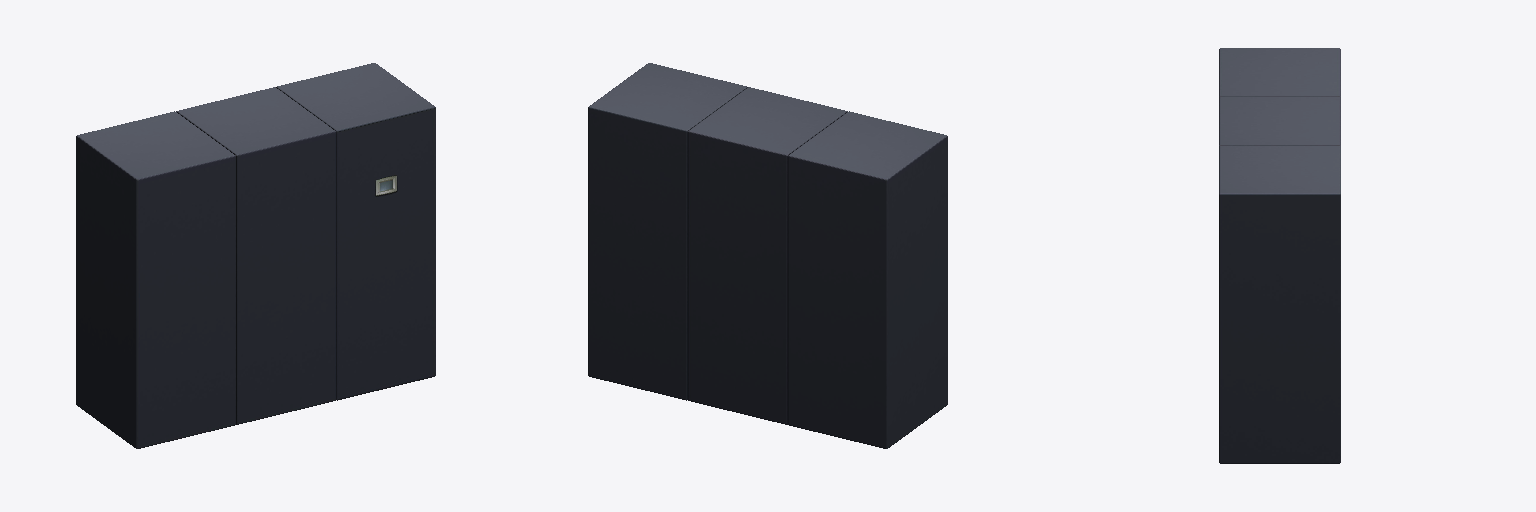
The picture shows the model from 3 angles: view 1: azimuth 30°, elevation 25°; view 2: azimuth 150°, elevation 25°; view 3: azimuth 270°, elevation 25°; orthographic projection.
Visible parts, largest first — view 1: ChamferBox51, ChamferBox53; view 2: ChamferBox51, ChamferBox53; view 3: ChamferBox53, ChamferBox51.
Part boxes in pixels (x1,y1,x2,y2): ChamferBox51: (76,87,335,448); ChamferBox53: (276,63,435,400); ChamferBox51: (688,87,947,448); ChamferBox53: (588,63,747,400); ChamferBox53: (1219,146,1340,463); ChamferBox51: (1219,48,1340,145).
Size of the model in its own units: 255 by 220 by 90.
2 materials, 2 textured.